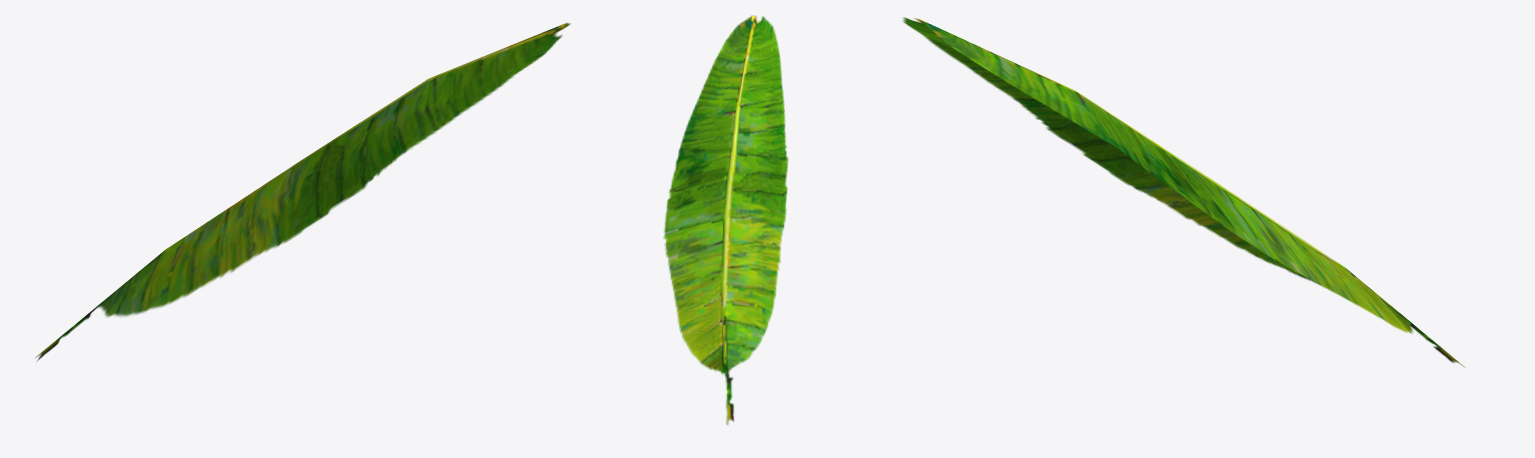
Rendered from BananaPlant_1_Leaf_3.gltf.
The picture shows the model from 3 angles, left to right: view 1: azimuth 30°, elevation 25°; view 2: azimuth 150°, elevation 25°; view 3: azimuth 270°, elevation 25°; orthographic projection. The views are drawn at different scales.
Parts seen in each view (by area): view 1: BananaPlant_1_Leaf_3; view 2: BananaPlant_1_Leaf_3; view 3: BananaPlant_1_Leaf_3.
Part boxes in pixels (left/top/right/bottom): BananaPlant_1_Leaf_3: left=35, top=23, right=570, bottom=360; BananaPlant_1_Leaf_3: left=663, top=15, right=788, bottom=424; BananaPlant_1_Leaf_3: left=903, top=17, right=1464, bottom=367.
Bounding box in the file's own units: 1.18 × 1.5 × 1.86.
Materials: 1 (1 with a texture image).
